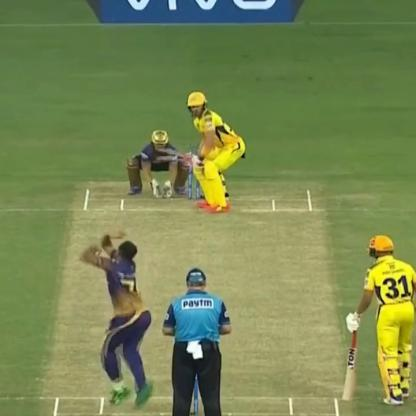bat: (152, 148, 196, 164)
pitch: (48, 181, 350, 415)
